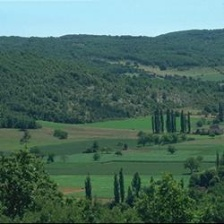neutral: (3, 2, 223, 222)
